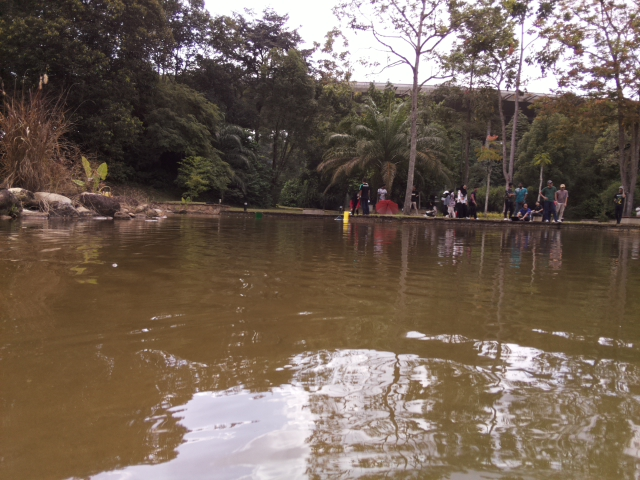obstacle: (254, 212, 263, 220)
